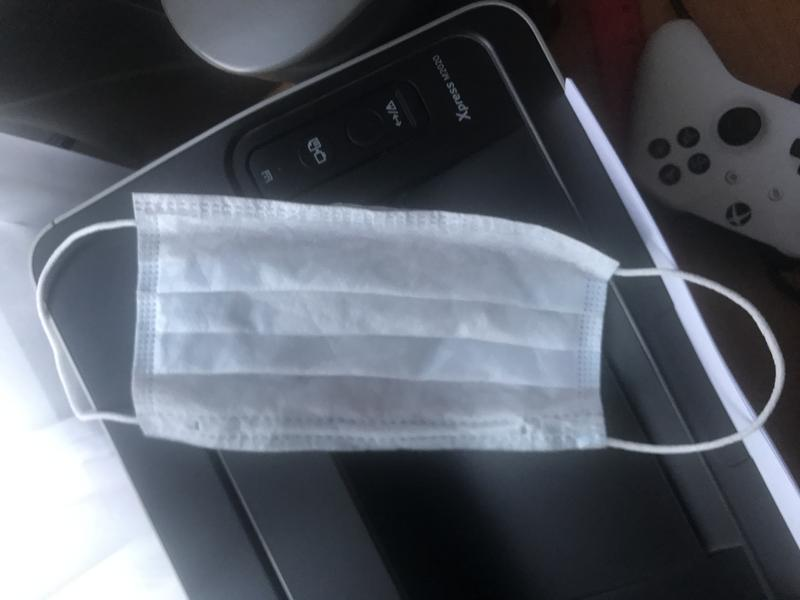medical_mask: (41, 192, 785, 456)
